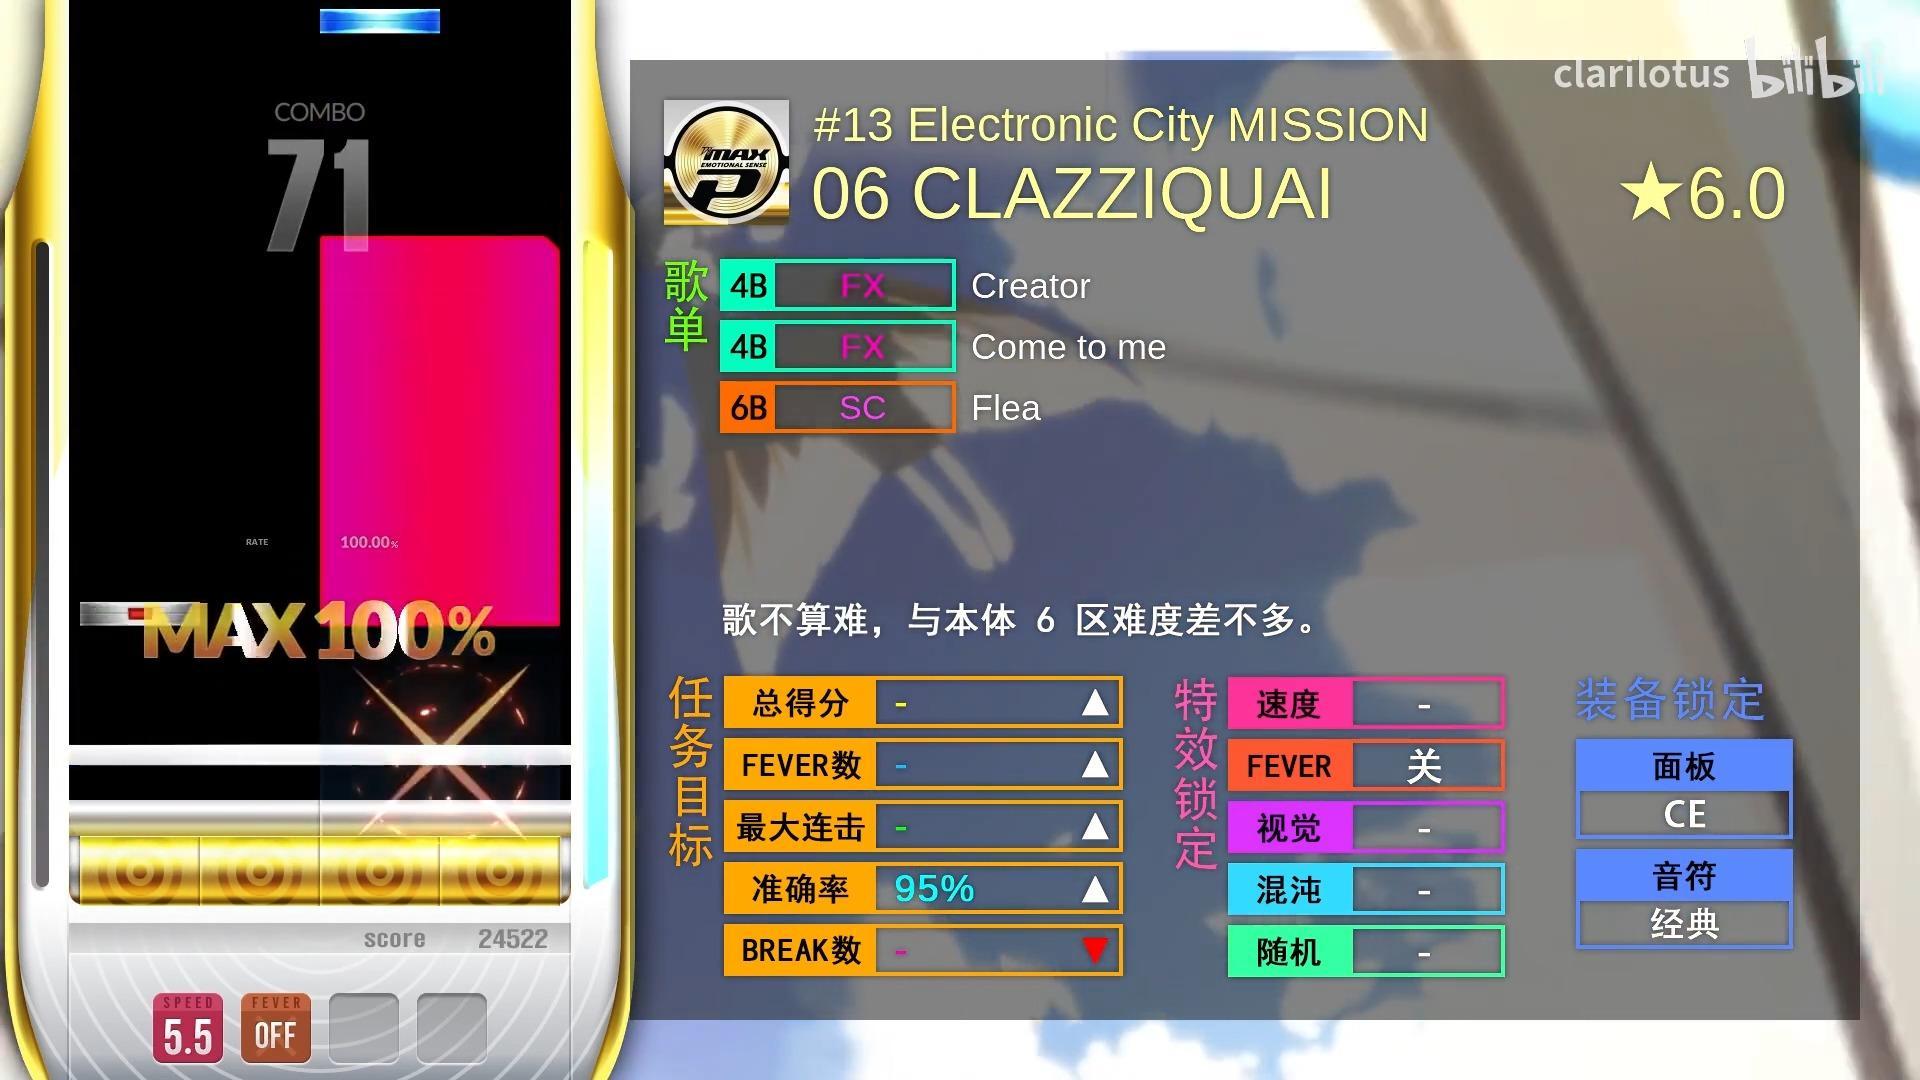note: (79, 600, 200, 626), (319, 8, 439, 33)
xend: (319, 235, 560, 261)
xstart: (319, 589, 562, 625)
